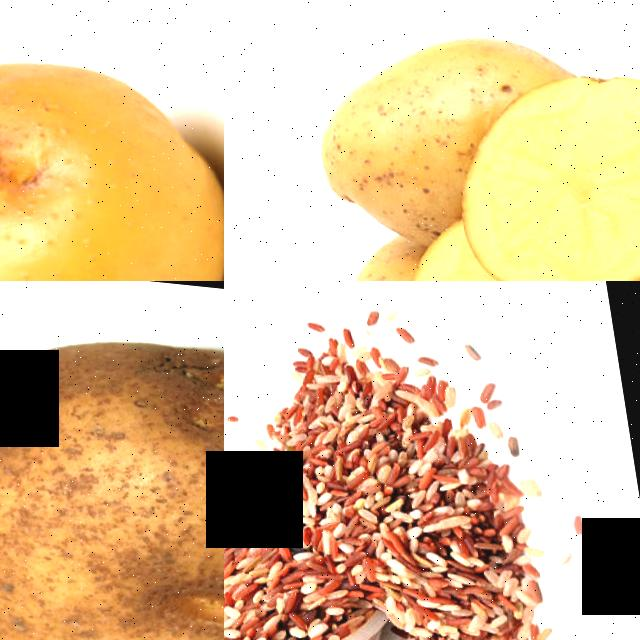potato: (0, 281, 224, 640), (0, 0, 224, 281), (440, 38, 640, 281), (302, 13, 469, 240), (328, 200, 590, 281)
red rice: (246, 295, 548, 640), (224, 484, 362, 640)
